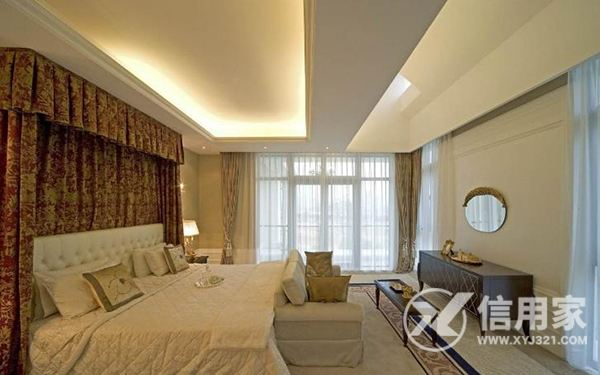床: (22, 256, 315, 370)
枕头: (34, 263, 141, 318), (303, 248, 352, 302), (129, 244, 186, 278)
灯: (179, 219, 200, 258)
